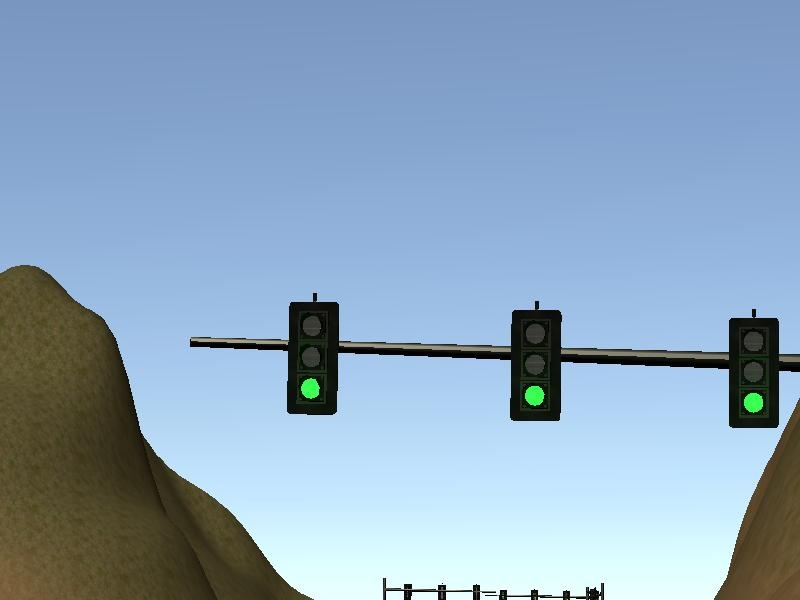GREEN: (510, 308, 561, 422), (288, 301, 339, 415), (729, 319, 779, 427)
